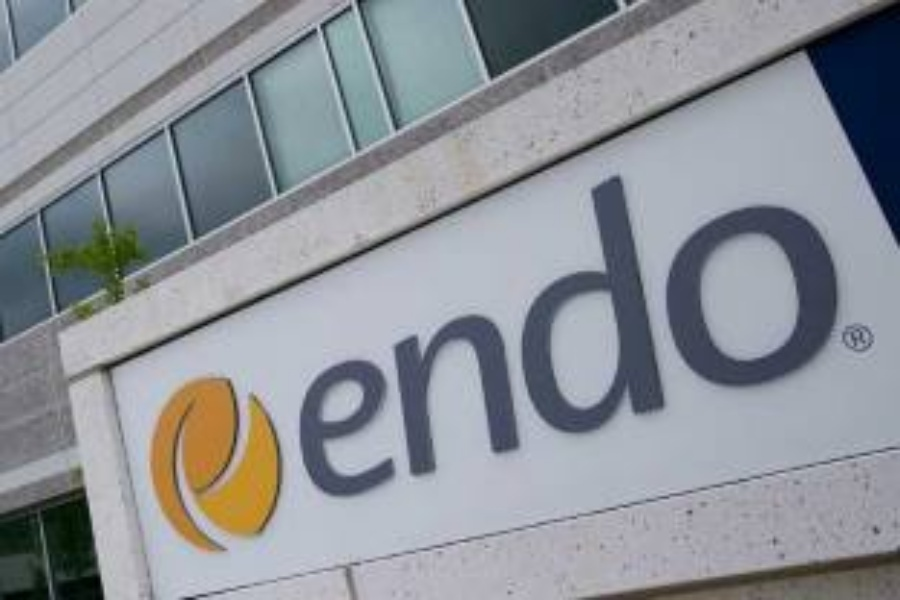text: (273, 104, 288, 517), (289, 104, 304, 517), (305, 104, 320, 517), (321, 104, 336, 517), (337, 104, 352, 517), (353, 104, 368, 517), (369, 104, 384, 517), (385, 104, 400, 517), (401, 104, 416, 517), (417, 104, 432, 517), (433, 104, 448, 517), (449, 104, 464, 517), (465, 104, 480, 517), (481, 104, 496, 517), (497, 104, 512, 517), (513, 104, 528, 517), (529, 104, 544, 517), (545, 104, 560, 517), (561, 104, 576, 517), (577, 104, 592, 517), (593, 104, 608, 517), (609, 104, 624, 517), (625, 104, 640, 517), (641, 104, 656, 517), (657, 104, 672, 517), (673, 104, 688, 517), (689, 104, 704, 517), (705, 104, 720, 517), (721, 104, 736, 517), (737, 104, 752, 517), (753, 104, 768, 517), (769, 104, 784, 517), (785, 104, 800, 517), (801, 104, 816, 517), (817, 104, 832, 517), (833, 104, 848, 517), (849, 104, 864, 517), (849, 321, 864, 352), (865, 104, 866, 517), (865, 321, 872, 352), (846, 321, 848, 352)
